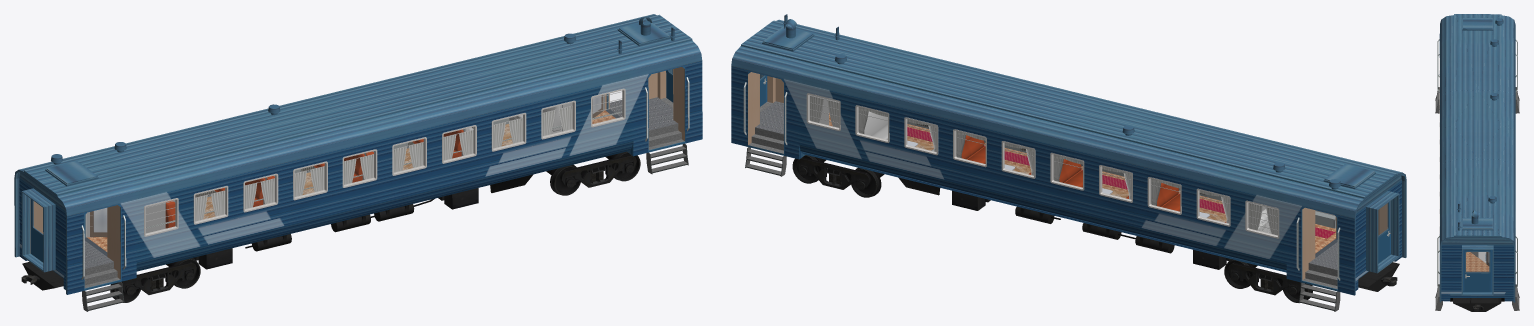
File: Train03Intervip_1Interior.FBX
3 renders of one model, left to right at view 1: azimuth 30°, elevation 25°; view 2: azimuth 150°, elevation 25°; view 3: azimuth 270°, elevation 25°, orthographic. The views are drawn at different scales.
Visible parts, largest first — view 1: Train03Intervip_1Interior, Train03Intervip_Window, Train03Intervip_1Wheels, Train03Intervip_Curtain02a, Train03Intervip_Windows, Train03Intervip_Stairs, Train03Intervip_Bench01, Train03Intervip_1Interiordetail, Train03Intervip_Wood01a1, Train03Intervip_Floor, Train03Intervip_1Wheel03, Train03Intervip_Chrome (+1 smaller); view 2: Train03Intervip_1Interior, Train03Intervip_Window, Train03Intervip_1Wheels, Train03Intervip_Windows, Train03Intervip_Curtain04a, Train03Intervip_Bench01, Train03Intervip_Stairs, Train03Intervip_Curtain02a, Train03Intervip_Fabric02, Train03Intervip_1Interiordetail, Train03Intervip_1Wheel03, Train03Intervip_Chrome (+2 smaller); view 3: Train03Intervip_1Interior, Train03Intervip_1Wheels, Train03Intervip_Stairs, Train03Intervip_Doorglass, Train03Intervip_1Interiordetail, Train03Intervip_Windows, Train03Intervip_Floor.
Part boxes in pixels (<box>): Train03Intervip_1Interior: <box>14,14,702,294</box>; Train03Intervip_Window: <box>146,91,622,233</box>; Train03Intervip_1Wheels: <box>21,154,636,294</box>; Train03Intervip_Curtain02a: <box>195,106,572,221</box>; Train03Intervip_Windows: <box>144,88,625,236</box>; Train03Intervip_Stairs: <box>82,143,688,311</box>; Train03Intervip_Bench01: <box>165,129,463,228</box>; Train03Intervip_1Interiordetail: <box>51,17,675,164</box>; Train03Intervip_Wood01a1: <box>86,95,604,237</box>; Train03Intervip_Floor: <box>203,124,512,219</box>; Train03Intervip_1Wheel03: <box>546,164,581,195</box>; Train03Intervip_Chrome: <box>146,91,622,228</box>; Train03Intervip_1Interior: <box>731,19,1406,295</box>; Train03Intervip_Window: <box>810,95,1277,234</box>; Train03Intervip_1Wheels: <box>796,157,1399,295</box>; Train03Intervip_Windows: <box>806,93,1279,238</box>; Train03Intervip_Curtain04a: <box>858,107,1229,223</box>; Train03Intervip_Bench01: <box>961,135,1226,222</box>; Train03Intervip_Stairs: <box>745,147,1340,311</box>; Train03Intervip_Curtain02a: <box>810,95,1277,235</box>; Train03Intervip_Fabric02: <box>907,127,1335,238</box>; Train03Intervip_1Interiordetail: <box>783,14,1340,189</box>; Train03Intervip_1Wheel03: <box>850,167,884,197</box>; Train03Intervip_Chrome: <box>810,95,1277,230</box>; Train03Intervip_1Interior: <box>1437,14,1517,302</box>; Train03Intervip_1Wheels: <box>1453,298,1501,311</box>; Train03Intervip_Stairs: <box>1435,87,1519,310</box>; Train03Intervip_Doorglass: <box>1466,252,1488,271</box>; Train03Intervip_1Interiordetail: <box>1457,18,1503,230</box>; Train03Intervip_Windows: <box>1439,58,1439,233</box>; Train03Intervip_Floor: <box>1478,252,1486,263</box>.
Size of the model in its own units: 1348 by 277 by 206.
